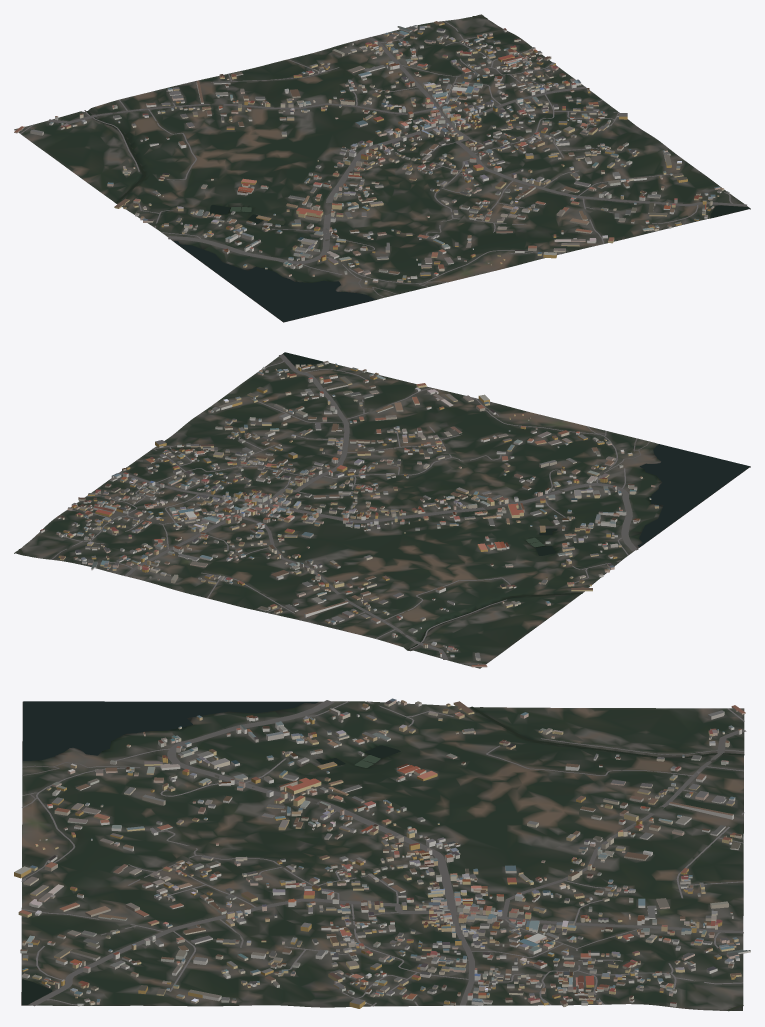
The picture shows the model from 3 angles, top to bottom: view 1: azimuth 30°, elevation 25°; view 2: azimuth 150°, elevation 25°; view 3: azimuth 270°, elevation 25°; orthographic projection. The views are drawn at different scales.
Visible parts, largest first — view 1: ground, buildings, roads, water; view 2: ground, buildings, roads, water; view 3: ground, buildings, roads, water.
Part boxes in pixels (box(x1,y1,x2,y2)): ground: box(14, 14, 750, 322); buildings: box(14, 21, 729, 284); roads: box(20, 21, 746, 297); water: box(86, 16, 749, 321); ground: box(14, 353, 750, 668); buildings: box(40, 361, 658, 667); roads: box(51, 354, 649, 664); water: box(19, 352, 749, 650); ground: box(21, 701, 744, 1010); buildings: box(14, 698, 750, 1008); roads: box(21, 700, 746, 1006); water: box(22, 701, 744, 1011).
Bounding box in the file's own units: 1425 × 31.78 × 1432.
